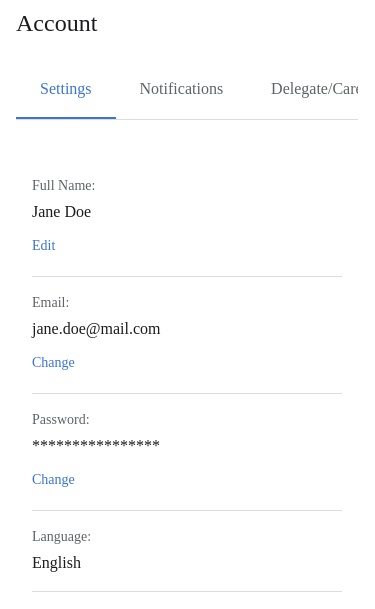
Test: AccountScreen › switches to Notifications tab
The width and height of the screenshot is (375, 609).
Click the text "Notifications".
click(181, 89)  # box top-left (140, 77), bottom-right (223, 101)
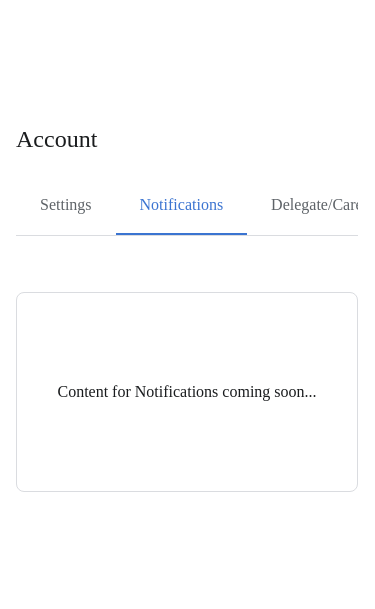
Now the text "Content for Notifications coming soon..." is shown, box top-left (58, 380), bottom-right (317, 404)
